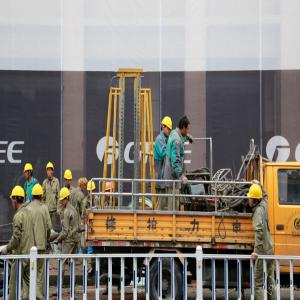none: (179, 115, 191, 138), (79, 177, 88, 193)
yellow: (248, 184, 264, 209), (11, 185, 26, 211), (162, 116, 173, 138), (32, 184, 44, 203), (60, 188, 71, 207), (24, 163, 34, 180), (46, 163, 55, 180), (64, 170, 73, 187), (88, 182, 96, 199)
